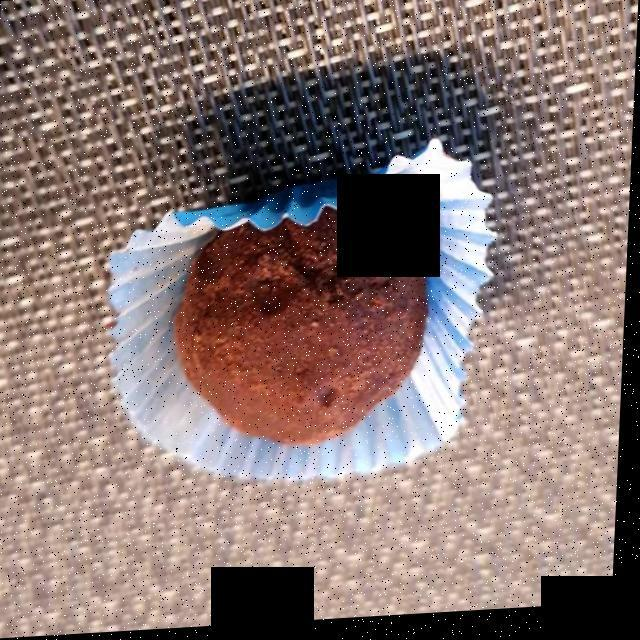nuts: (177, 205, 425, 441)
